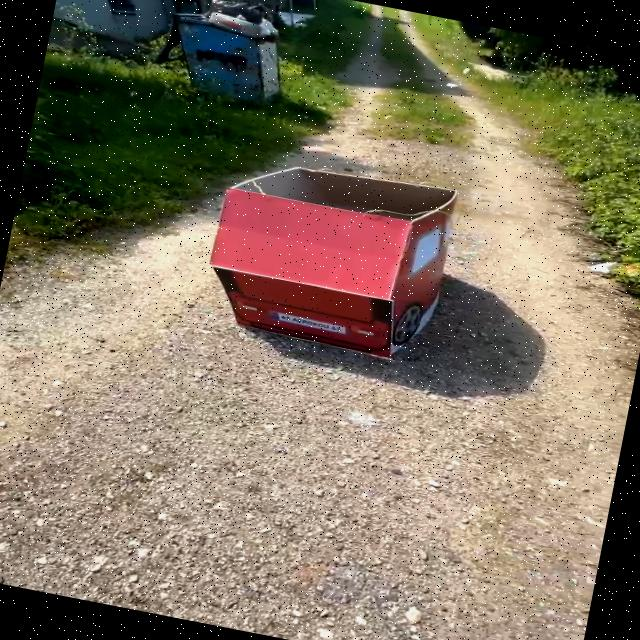red_car: (163, 128, 519, 388)
